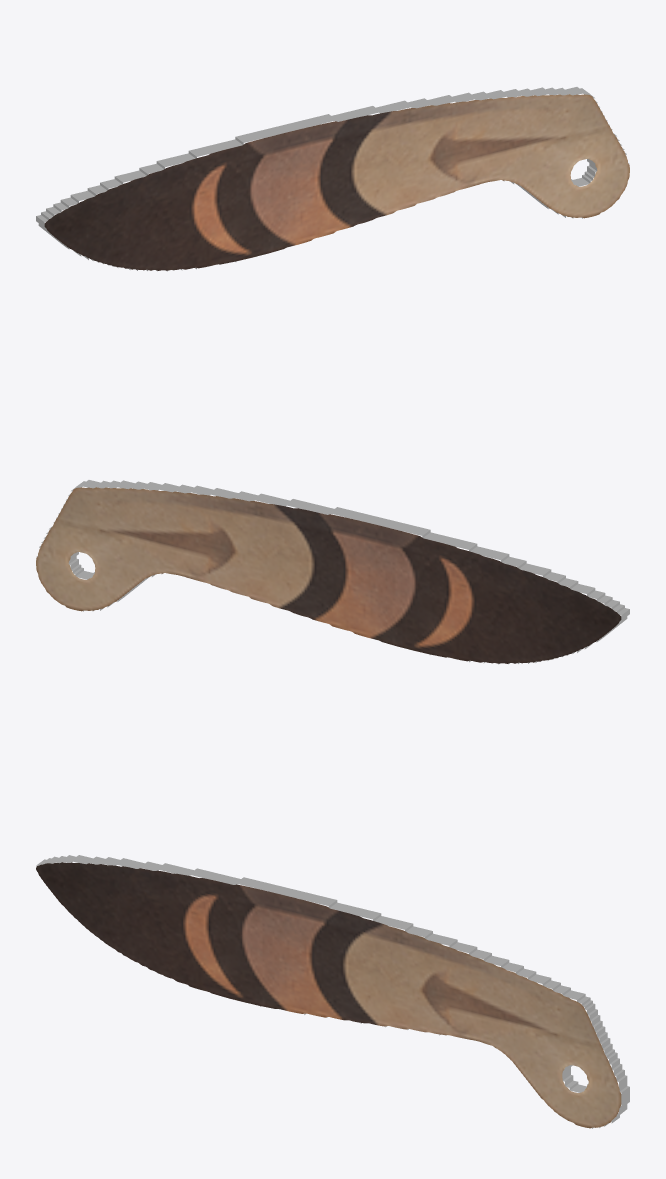
File: FlightLeft01.glb
3 views of the same model, one above another, from view 1: azimuth 30°, elevation 25°; view 2: azimuth 150°, elevation 25°; view 3: azimuth 330°, elevation 25° (orthographic).
Visible parts, largest first — view 1: PaperVolume; view 2: PaperVolume; view 3: PaperVolume.
Part boxes in pixels (<box>): PaperVolume: <box>36,87,629,271</box>; PaperVolume: <box>36,480,629,664</box>; PaperVolume: <box>36,855,629,1128</box>.
Bounding box in the file's own units: 3.44 × 1.07 × 0.08.
3 materials, 2 textured.
